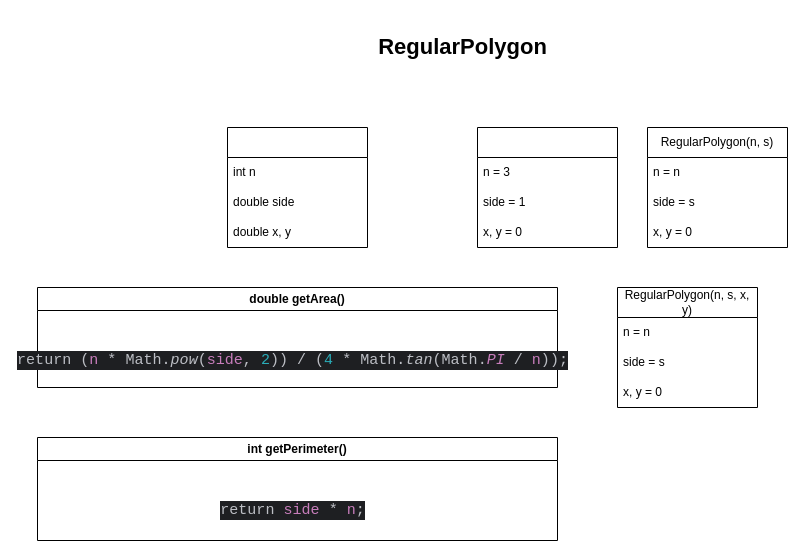
Image size: 805x558. Some labels were removed from this diagram. Here are the shapes that lost their labels. From the top down, the box of each, then its label:
(226, 126, 368, 248): Variables
(476, 126, 618, 248): RegularPolygon()
